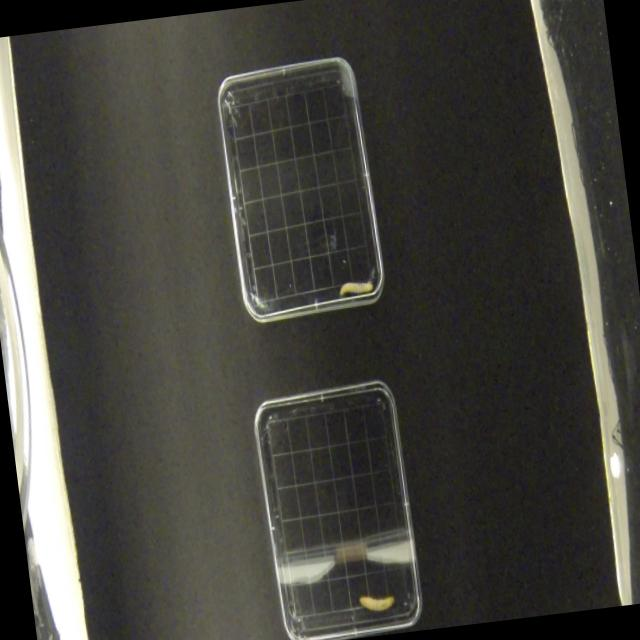larva: (358, 592, 395, 614)
